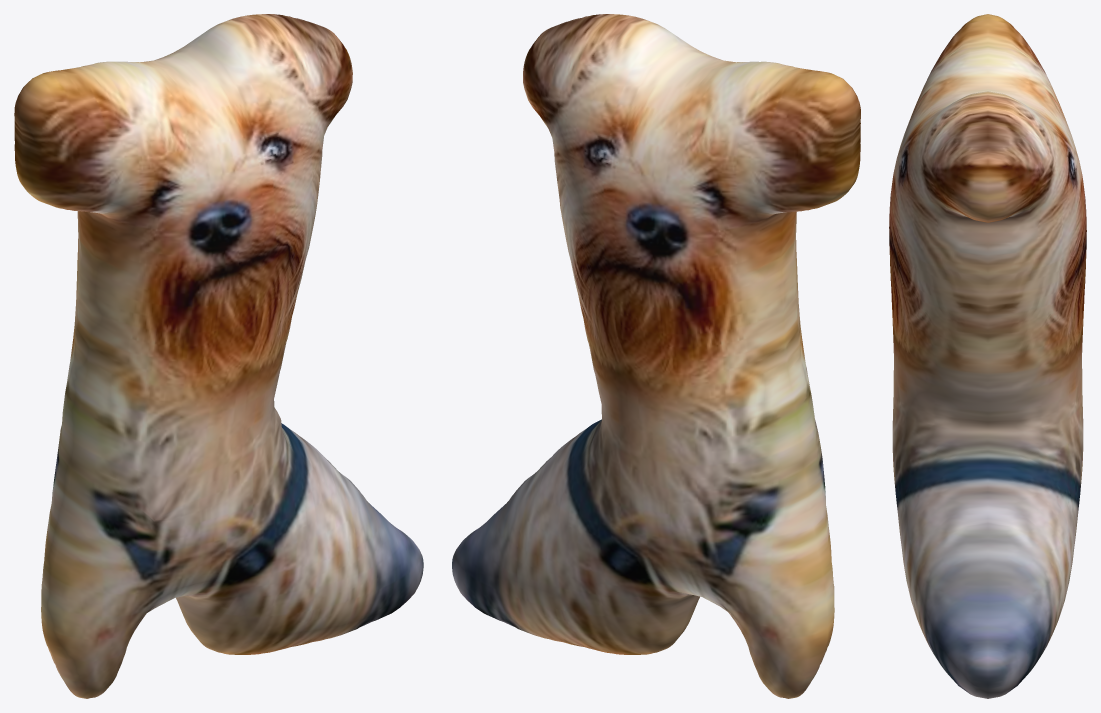
File: mm_project.glb
The picture shows the model from 3 angles, left to right: view 1: azimuth 30°, elevation 25°; view 2: azimuth 150°, elevation 25°; view 3: azimuth 270°, elevation 25°; orthographic projection. The views are drawn at different scales.
Bounding box in the file's own units: 3.88 × 5.9 × 1.9.
1 material, 1 textured.
